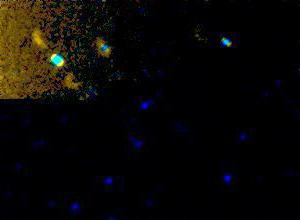star: (23, 25, 53, 55)
